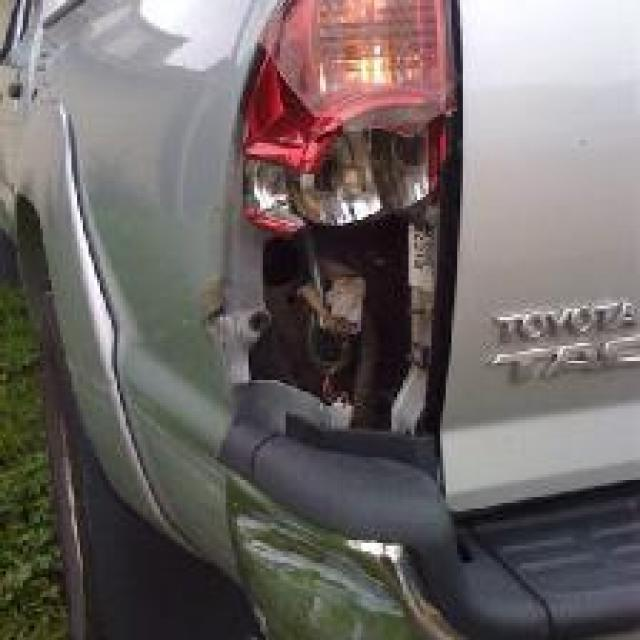damaged: (202, 42, 458, 634)
